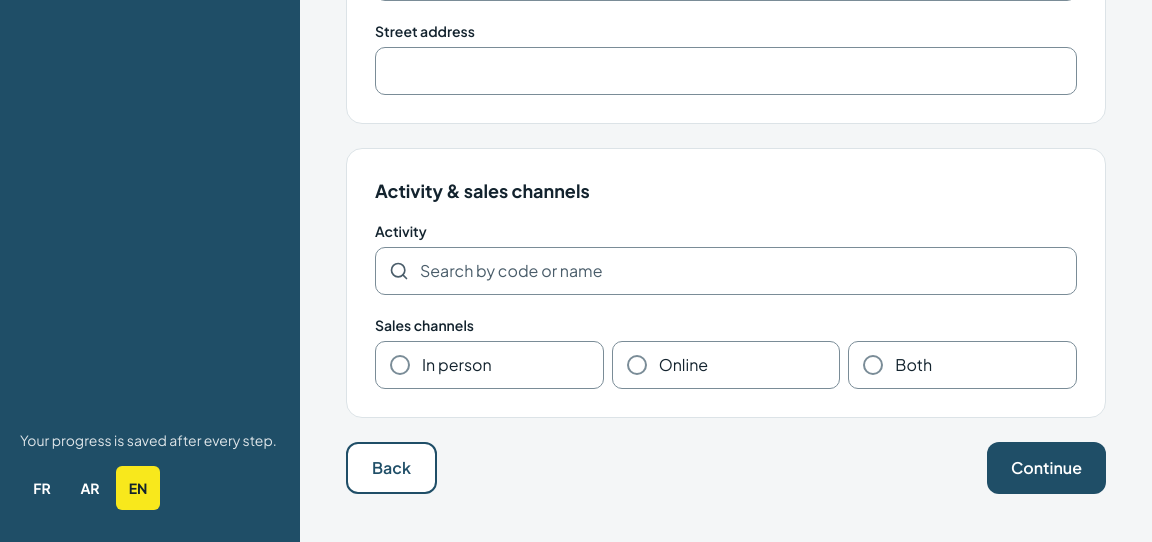
Test case: field-level validation (fixes 869e4xg74) › the .com.dz rule shows the exact inline message
(page scrolled)
Click the radio button labelled "Online": (726, 364) [612, 340, 840, 388]
(page scrolled)
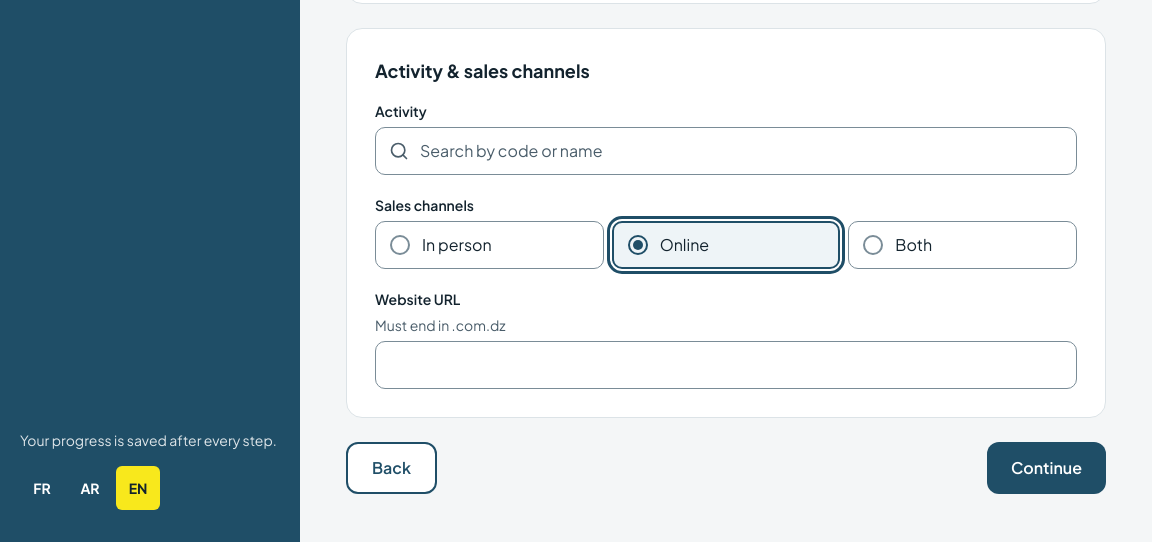
In the field with id "f-website": (726, 364) [375, 340, 1077, 388], type "https://shop.example.com"
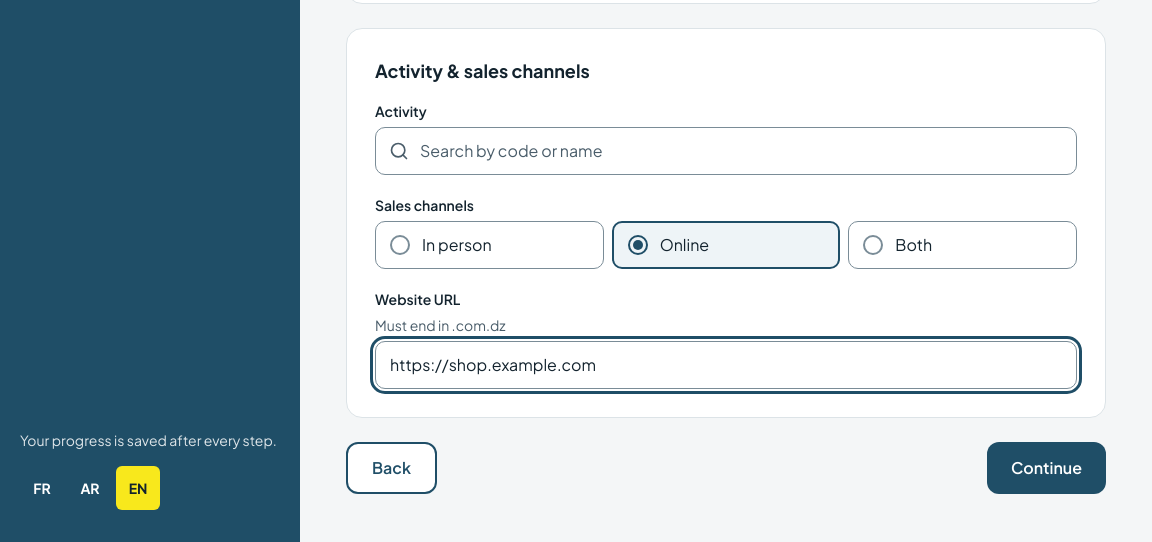
Press Tab
(page scrolled)
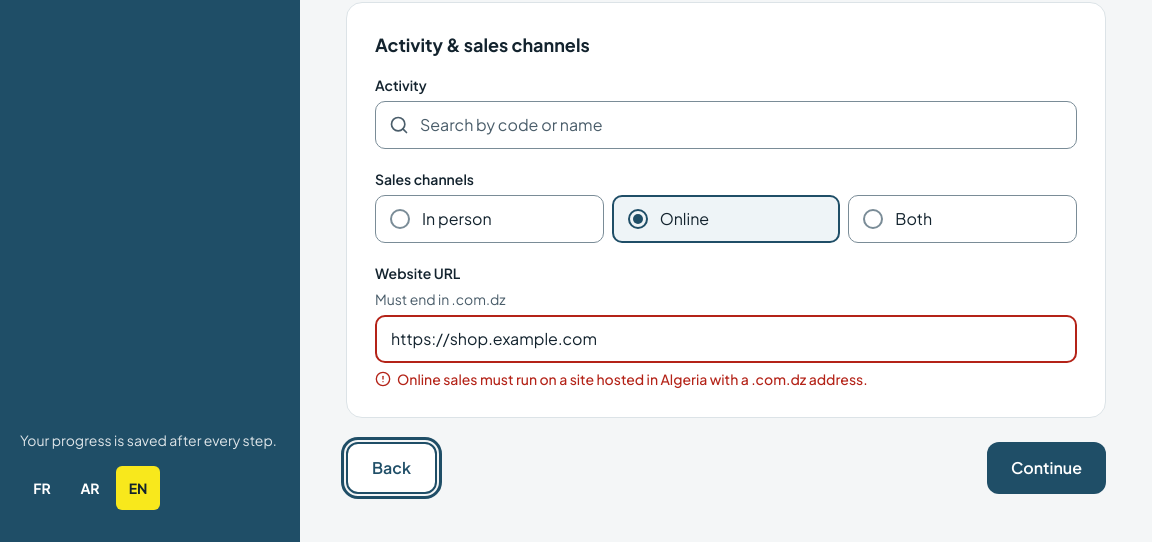
Expected: the text "Online sales must run on a site hosted in Algeria with a .com.dz address." is shown, [397, 368, 868, 388]
